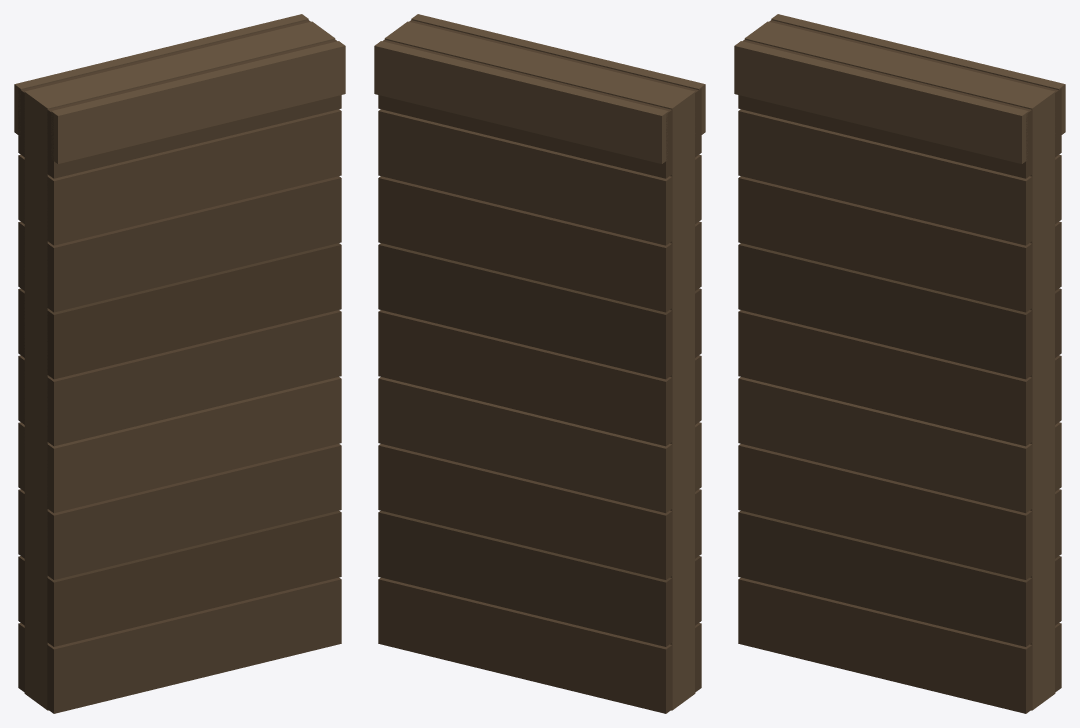
The model's file is UpperBay.glb.
The picture shows the model from 3 angles, left to right: view 1: azimuth 30°, elevation 25°; view 2: azimuth 150°, elevation 25°; view 3: azimuth 330°, elevation 25°; orthographic projection.
Visible parts, largest first — view 1: UpperBay; view 2: UpperBay; view 3: UpperBay.
Boxes of the visible parts, left/top/right/bottom form: UpperBay: left=14, top=14, right=345, bottom=713; UpperBay: left=374, top=14, right=705, bottom=713; UpperBay: left=734, top=14, right=1065, bottom=713.
Size of the model in its own units: 1 by 2 by 0.262.
